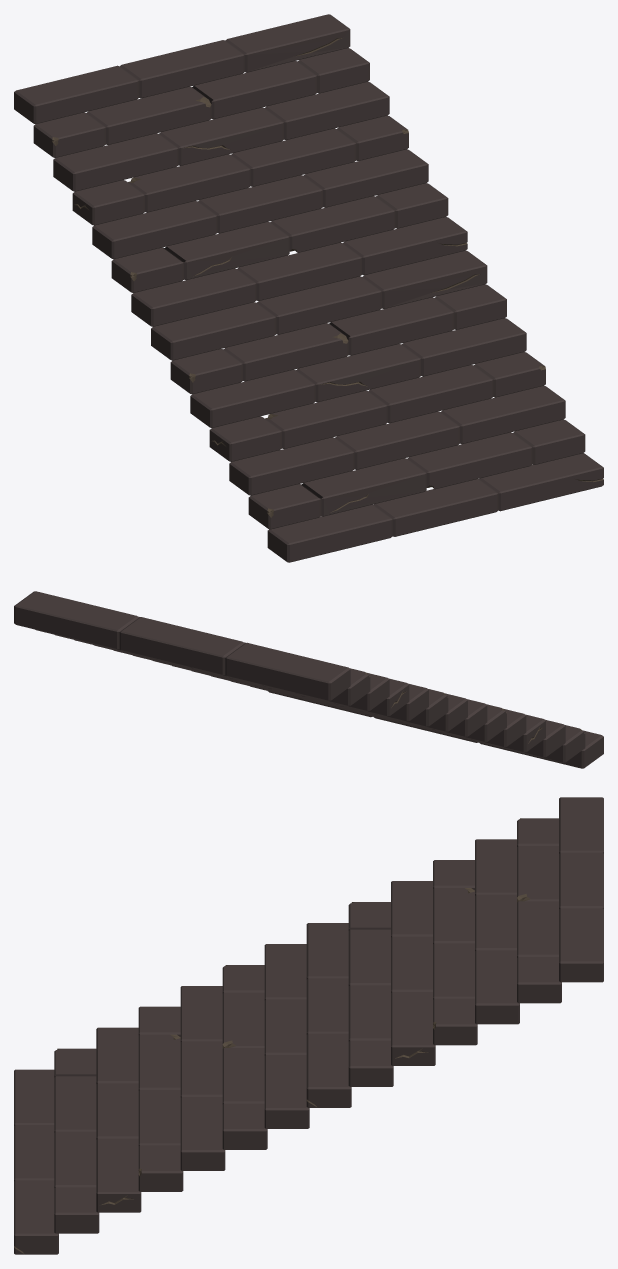
File: StairChange.fbx
The picture shows the model from 3 angles, top to bottom: view 1: azimuth 30°, elevation 25°; view 2: azimuth 150°, elevation 25°; view 3: azimuth 270°, elevation 25°; orthographic projection. The views are drawn at different scales.
Visible parts, largest first — view 1: Stair; view 2: Stair; view 3: Stair.
Boxes of the visible parts, x1,y1,x2,y2 form: Stair: [14, 14, 603, 562]; Stair: [14, 591, 603, 768]; Stair: [14, 797, 603, 1254].
Size of the model in its own units: 325 by 267 by 486.
